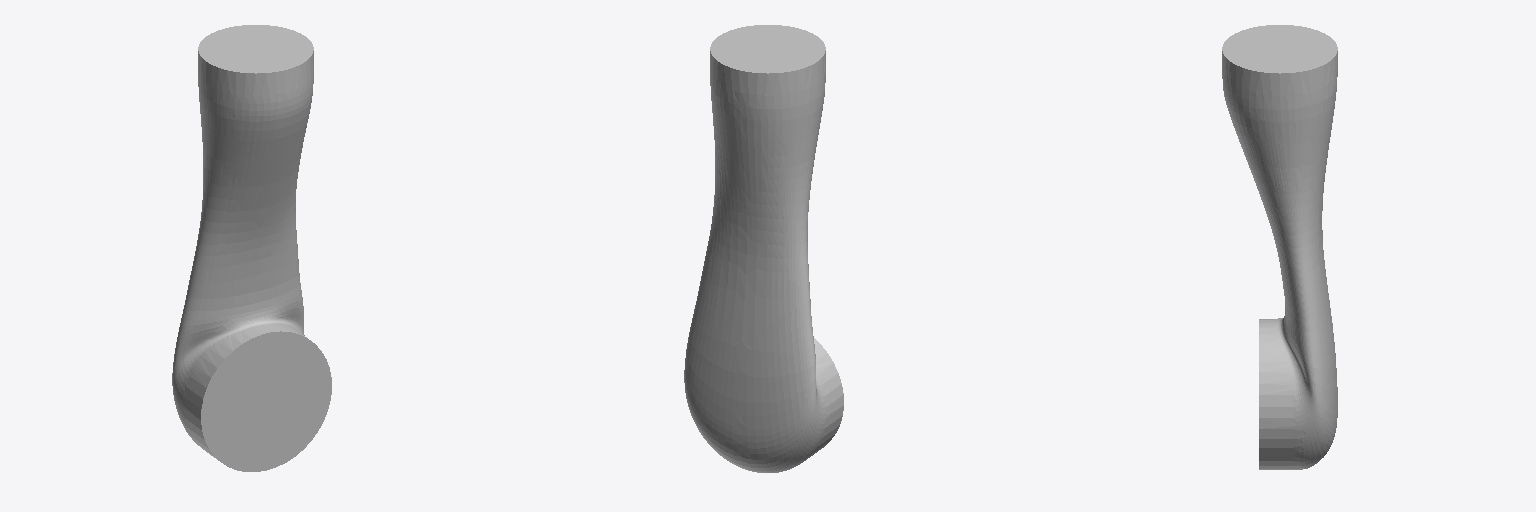
Rendered from processed_forearm.obj.
3 renders of one model, left to right at view 1: azimuth 30°, elevation 25°; view 2: azimuth 150°, elevation 25°; view 3: azimuth 270°, elevation 25°, orthographic.
Visible parts, largest first — view 1: forearm; view 2: forearm; view 3: forearm.
Boxes of the visible parts, x1=… form: forearm: x1=172, y1=25, x2=331, y2=471; forearm: x1=684, y1=25, x2=843, y2=472; forearm: x1=1222, y1=25, x2=1337, y2=469.
Size of the model in its own units: 0.0825 by 0.2485 by 0.063.